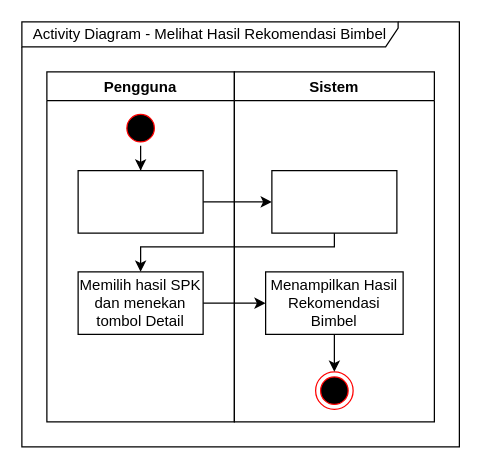
The diagram is 481 pixels wide and 469 high, and some of its shapes have lost their labels. Each missing label, with the box of its shape:
Membuka Menu SPK Bimbel: (77, 169, 203, 233)
Menampilkan Halaman SPK Bimbel: (271, 169, 397, 233)
